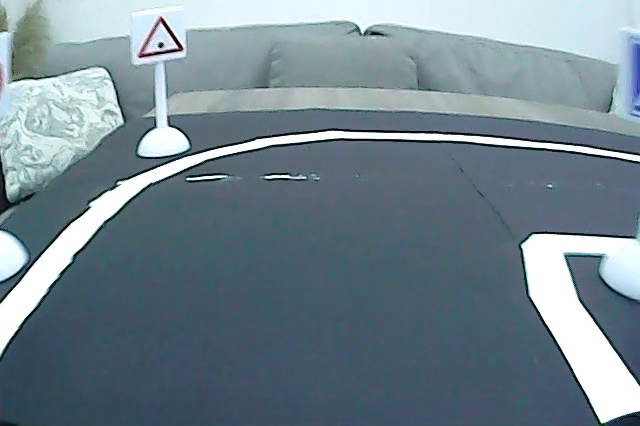green light: (134, 11, 187, 58)
